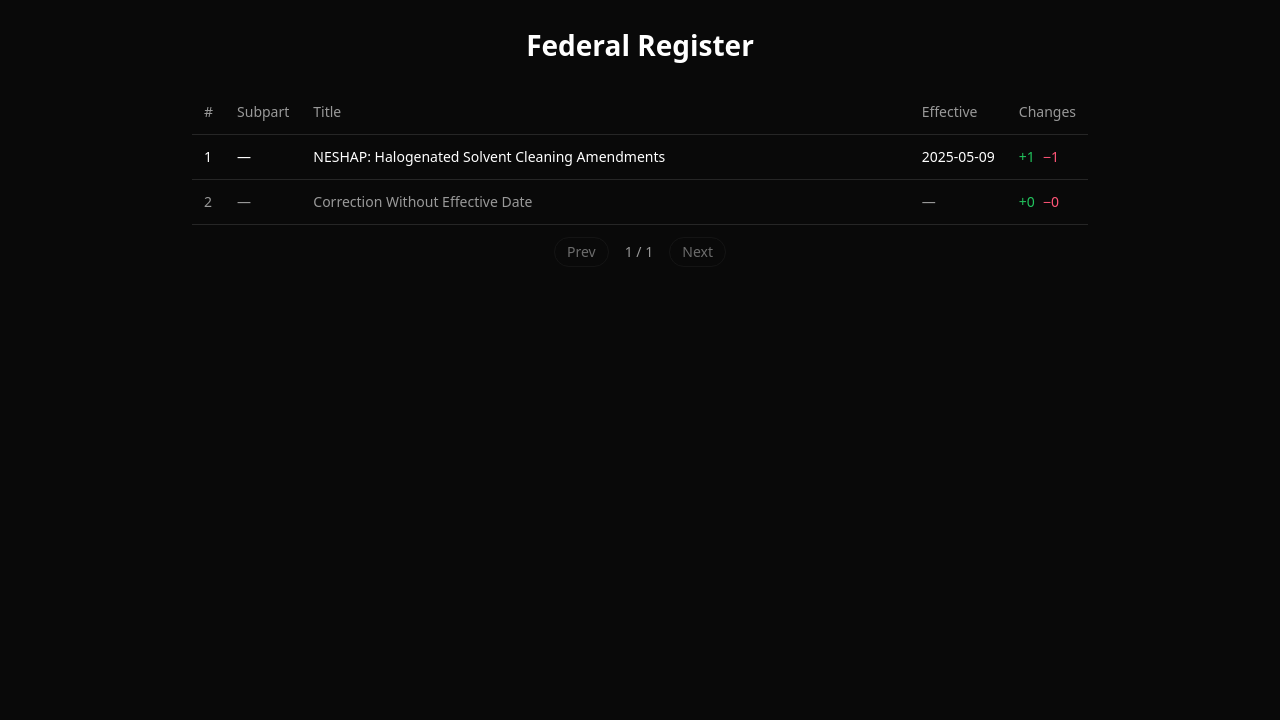
Scenario: removed 문단에 diff-removed, added 문단에 diff-added 클래스가 붙는다
This screenshot has width=1280, height=720.
Step 1. Click the button "NESHAP: Halogenated Solvent Cleaning Amendments" → x=606, y=157, box [313,147,898,167]
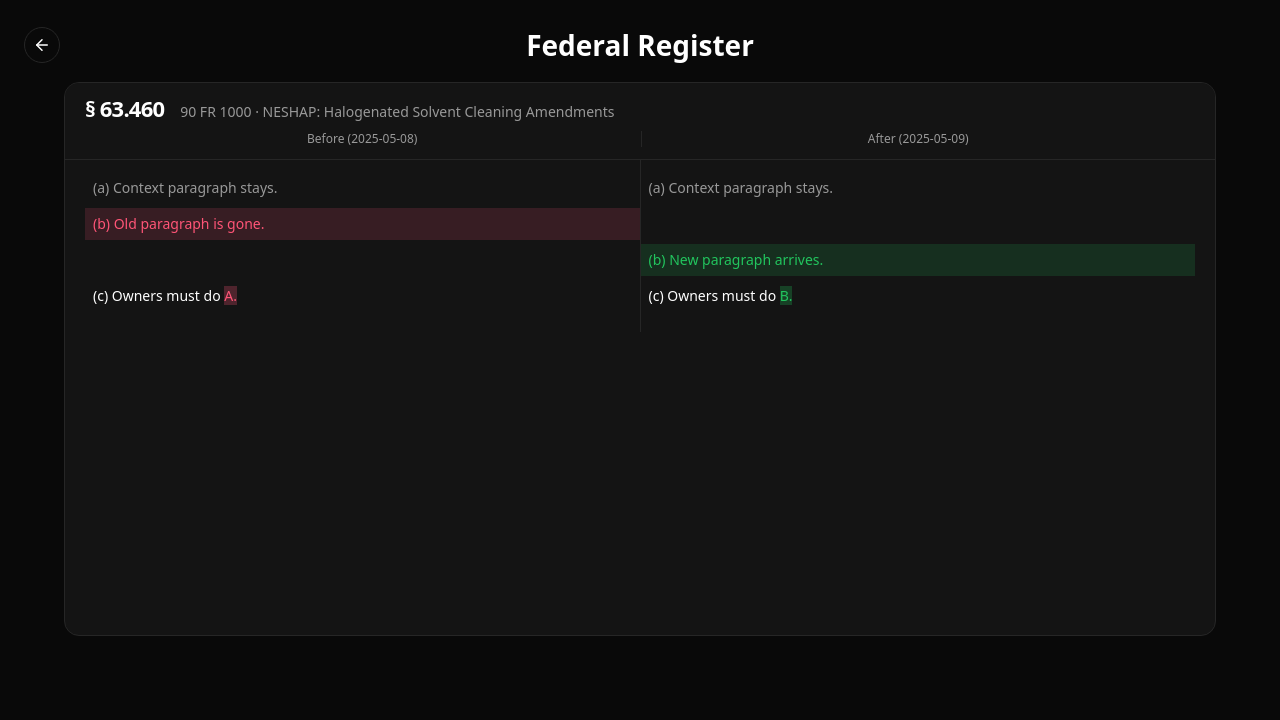
Now the text "(b) Old paragraph is gone." is shown, box [85,208,640,240]
Now the text "(b) New paragraph arrives." is shown, box [640,244,1195,276]
